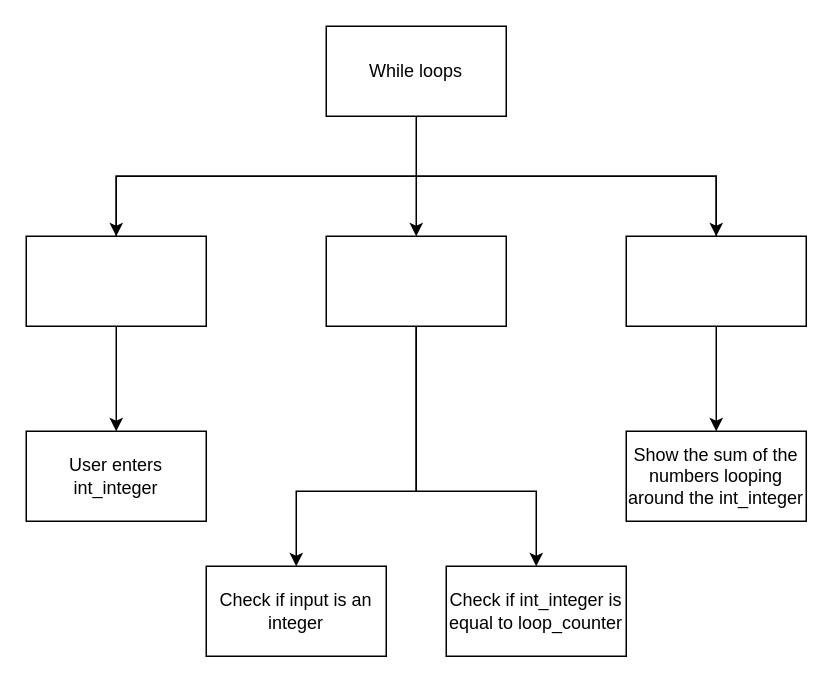
The diagram is 833 pixels wide and 683 high, and some of its shapes have lost their labels. Each missing label, with the centre of its shape:
Input: [115,280]
Output: [715,280]
Process: [415,280]
